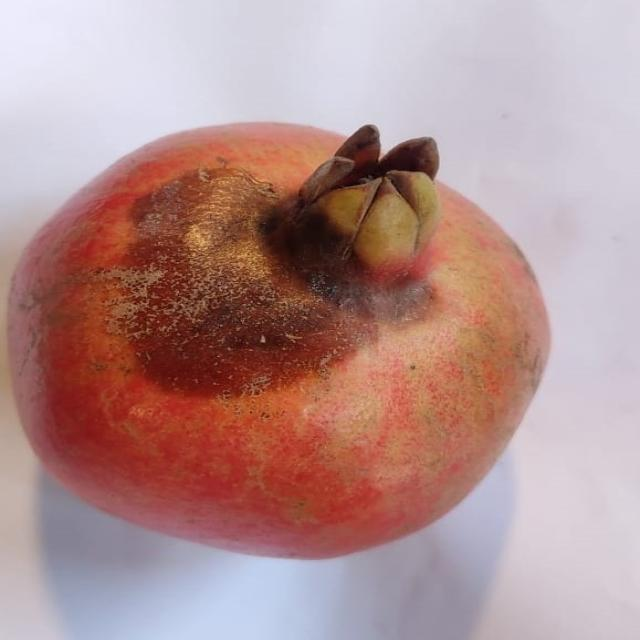Rotten: (4, 115, 555, 561)
